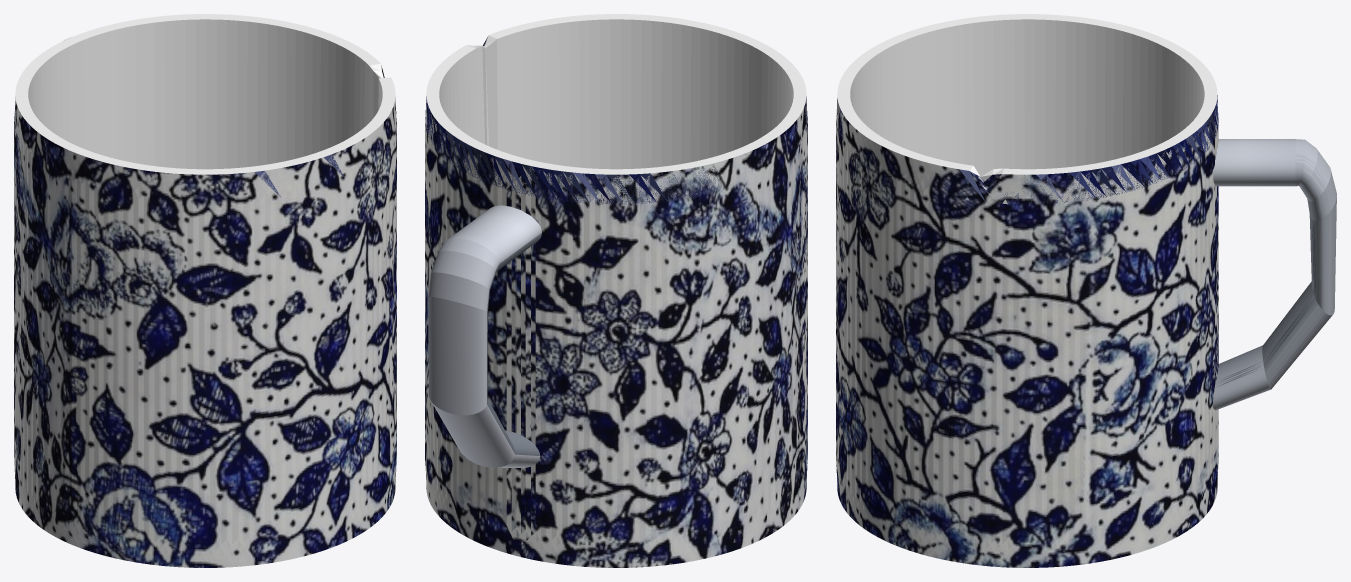
Rendered from blueCup.glb.
3 renders of one model, left to right at view 1: azimuth 30°, elevation 25°; view 2: azimuth 150°, elevation 25°; view 3: azimuth 270°, elevation 25°, orthographic.
Size of the model in its own units: 2.01 by 2.28 by 2.64.
2 materials, 1 textured.
